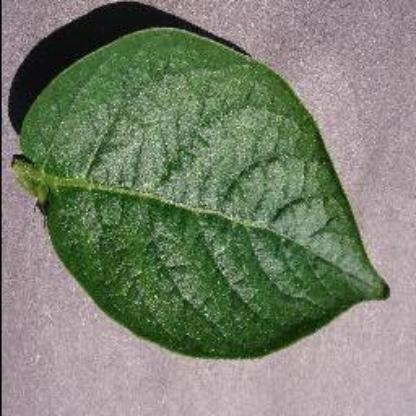Healthy-plant: (7, 22, 409, 364)
